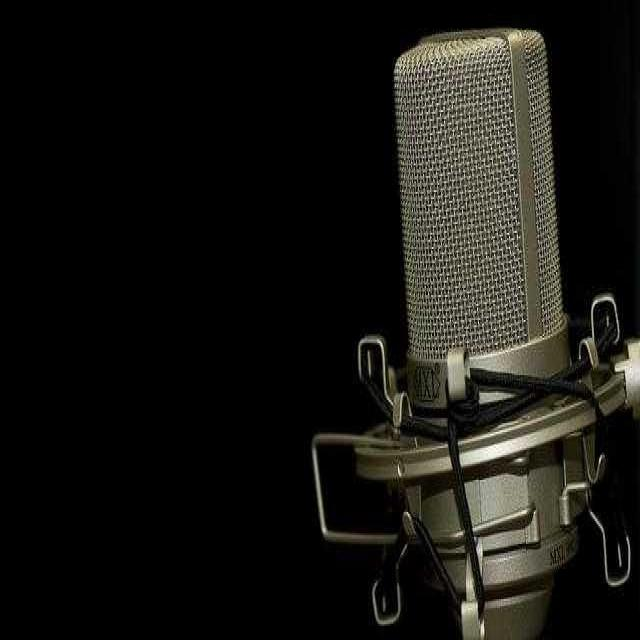microphone: (394, 29, 577, 637)
